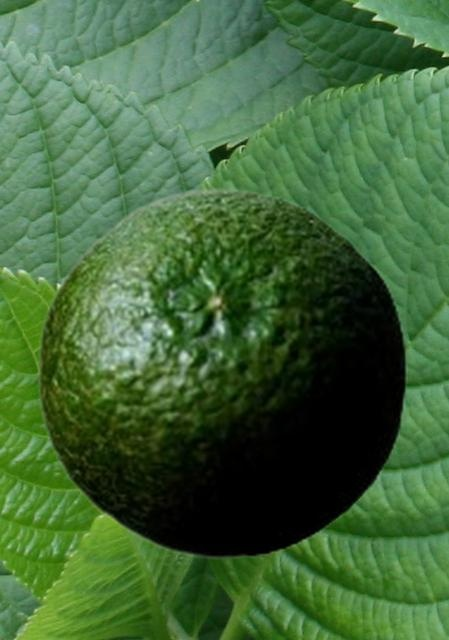calamansi: (36, 187, 406, 559)
